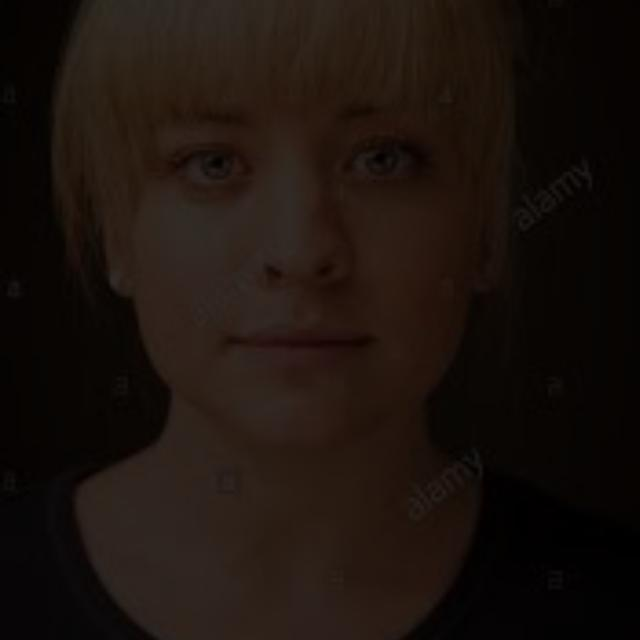Natural: (107, 52, 505, 449)
